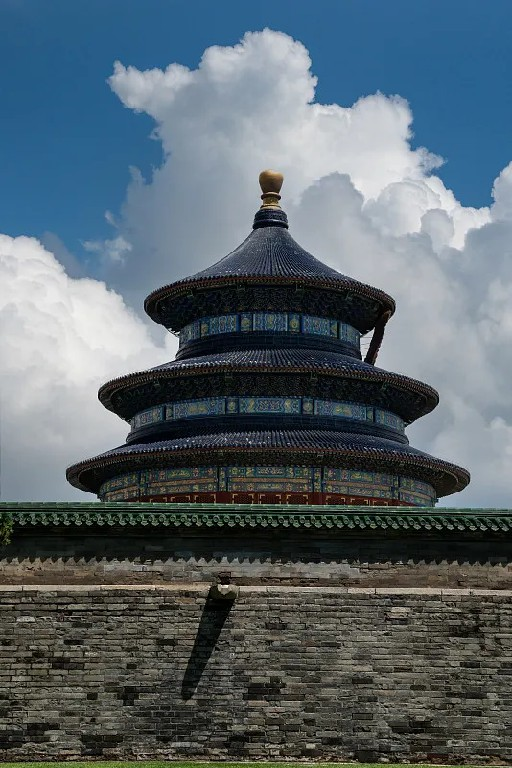Heaven: (66, 170, 471, 508)
